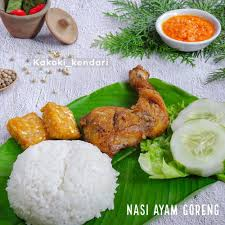Ayam goreng: (80, 64, 170, 157)
Nasi putih: (10, 138, 116, 222)
Tempe goreng: (38, 97, 83, 142), (6, 107, 47, 149)
